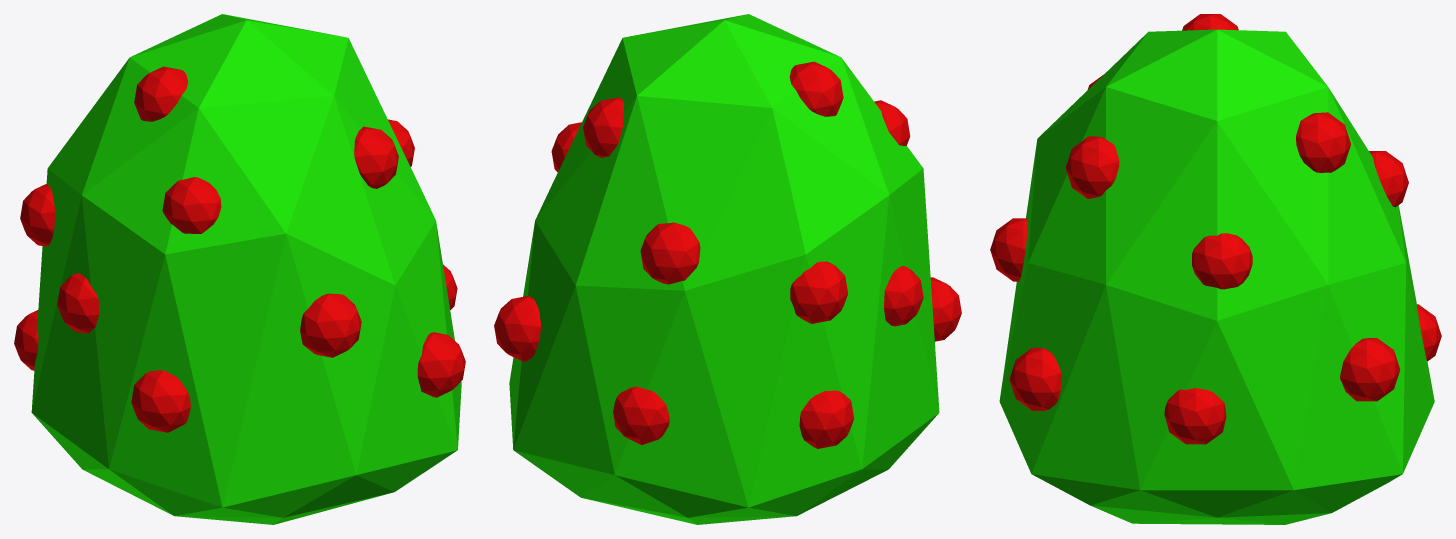
File: bush_Berry.fbx
The picture shows the model from 3 angles, left to right: view 1: azimuth 30°, elevation 25°; view 2: azimuth 150°, elevation 25°; view 3: azimuth 270°, elevation 25°; orthographic projection.
Parts seen in each view (by area): view 1: Bush Berry; view 2: Bush Berry; view 3: Bush Berry.
Boxes of the visible parts, x1,y1,x2,y2 form: Bush Berry: (14,14,465,524); Bush Berry: (494,14,961,524); Bush Berry: (990,14,1441,524).
Bounding box in the file's own units: 198 × 228 × 203.
